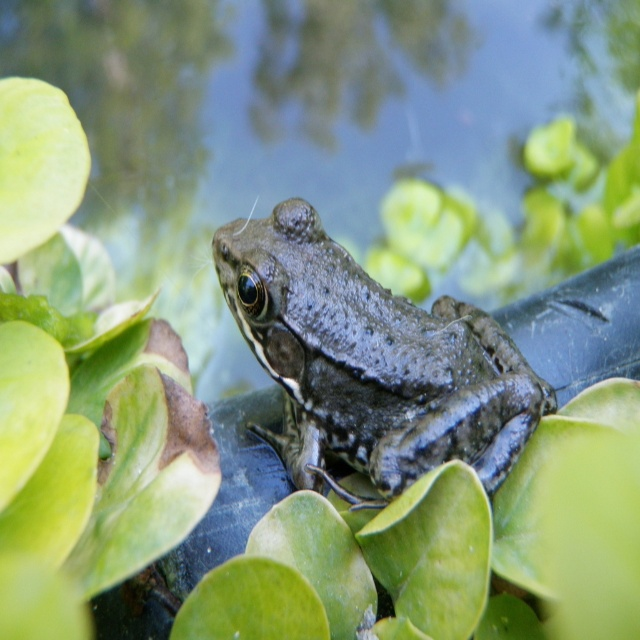Frog: (210, 197, 558, 514)
